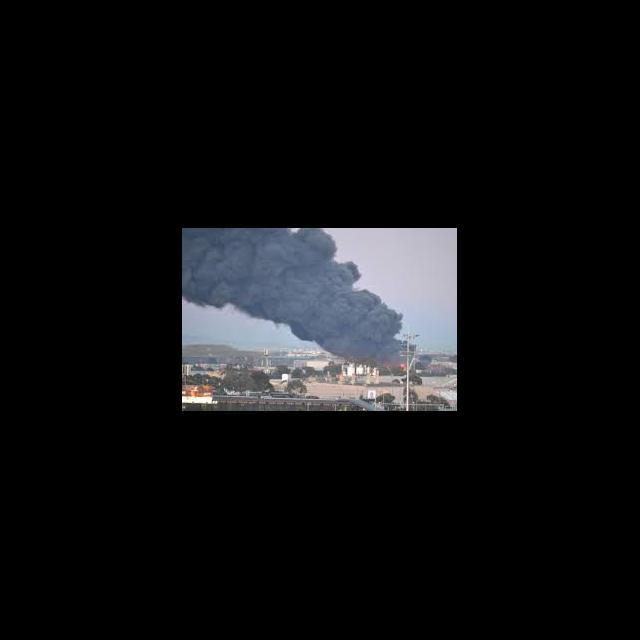Fire: (382, 360, 408, 374)
Smoke: (188, 230, 397, 356)
